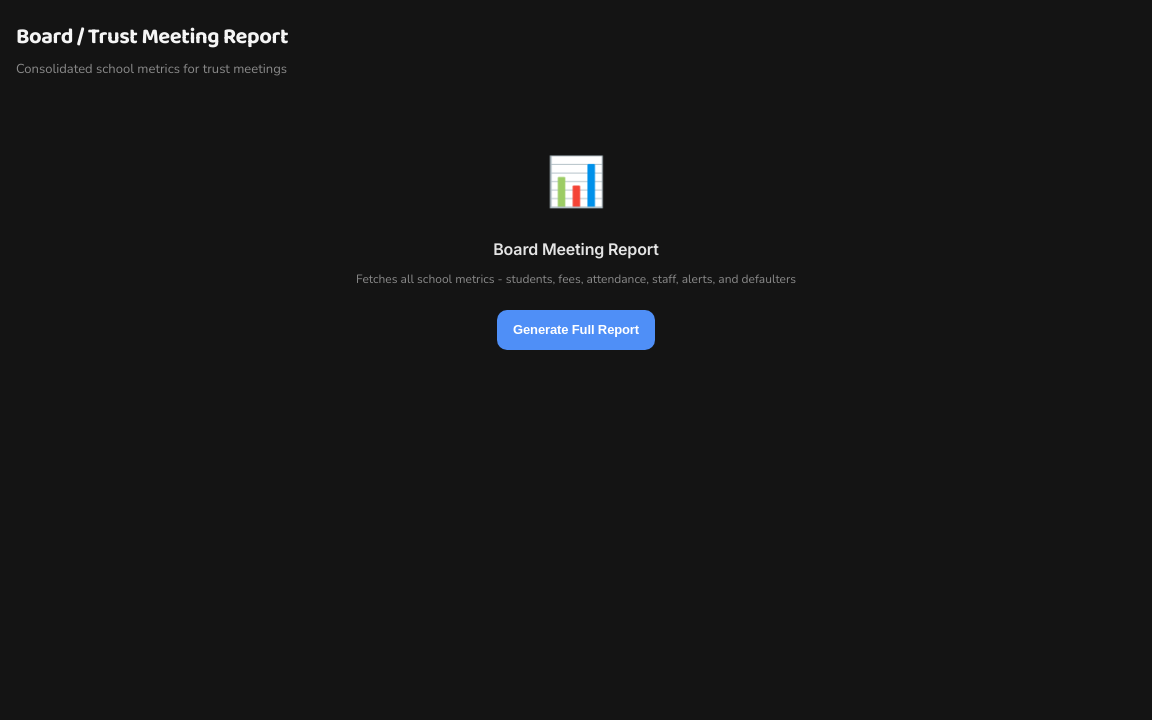
Test: one failed section does not cost the other five
Click the button with test id "board-generate".
click(576, 330)  # box [497,310,655,350]
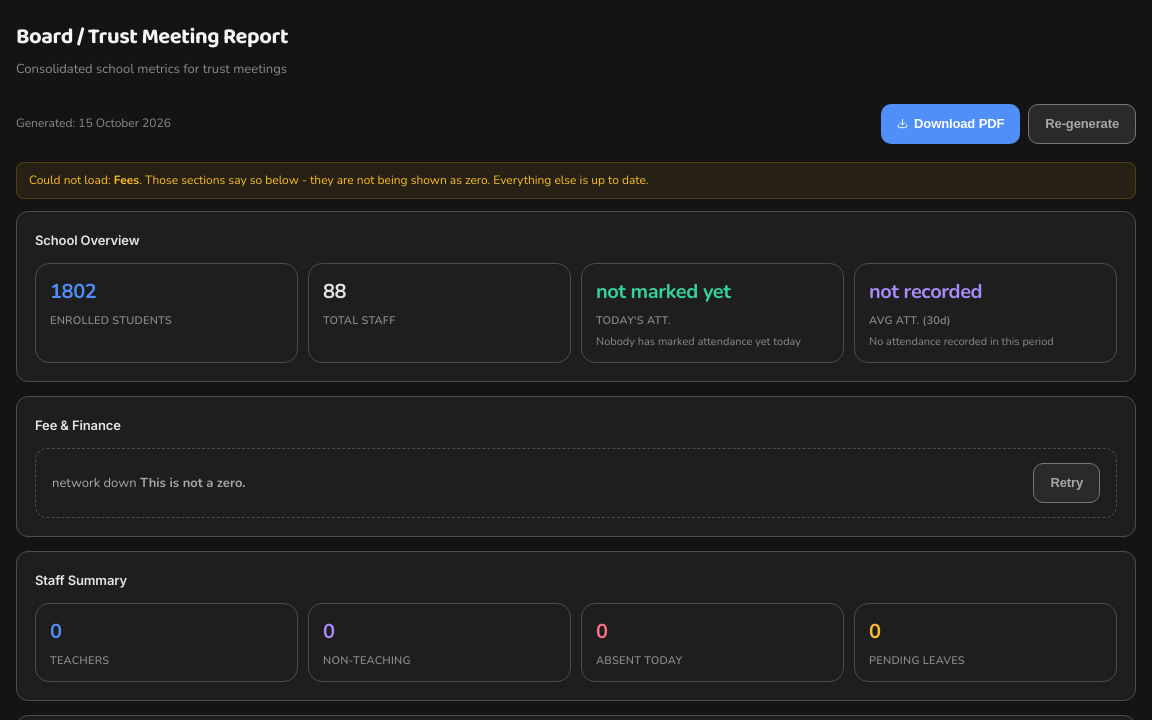
Check: the message "network down This is not a zero. Retry" is shown, box [35,448,1117,518]
Check: the message with test id "board-section-error-fee" shows "not a zero", box [140,474,245,492]
Check: the element with test id "board-total-students" shows "1802", box [50,278,96,305]
